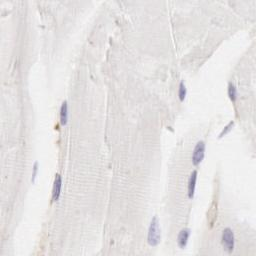nucleus: (148, 214, 161, 246), (191, 140, 207, 164), (176, 227, 192, 250), (218, 119, 235, 138), (223, 228, 234, 253), (52, 173, 62, 200), (189, 169, 197, 199), (59, 99, 67, 125), (179, 80, 187, 101), (228, 83, 236, 101), (32, 161, 38, 183)
